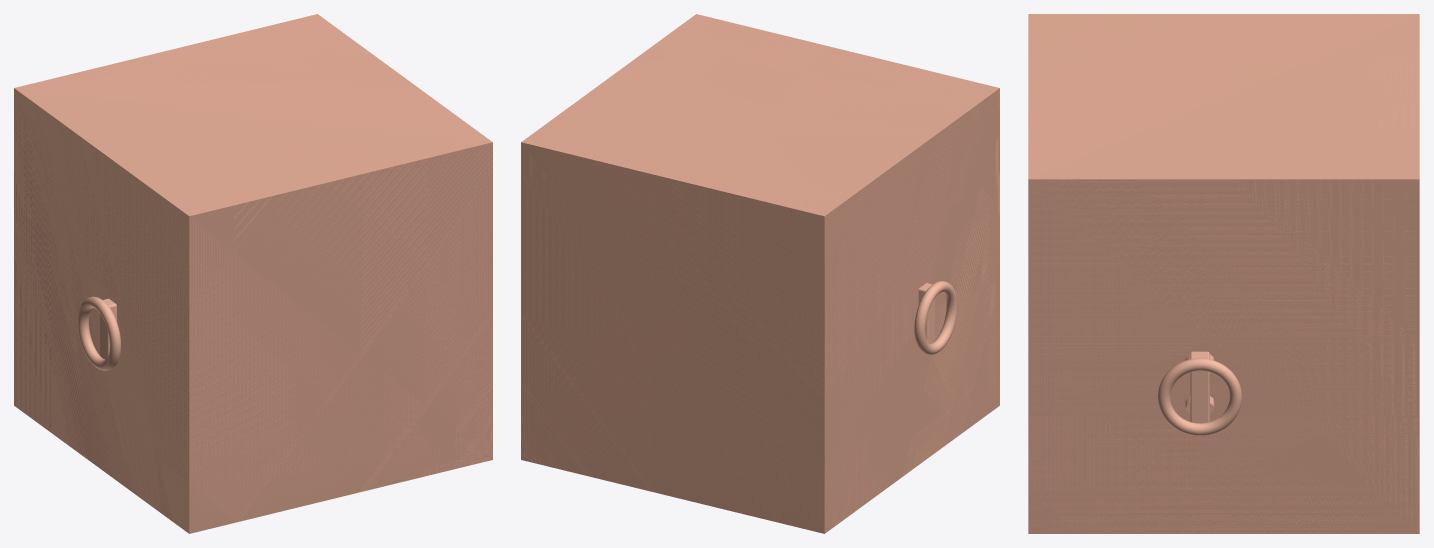
The picture shows the model from 3 angles, left to right: view 1: azimuth 30°, elevation 25°; view 2: azimuth 150°, elevation 25°; view 3: azimuth 270°, elevation 25°; orthographic projection. The views are drawn at different scales.
Parts seen in each view (by area): view 1: object 1, object 10, Pot_Handle_2; view 2: object 1, object 10, Pot_Handle_2; view 3: object 1, object 10, Pot_Handle_1, Pot_Handle_Connector_1.
Boxes of the visible parts, x1=… form: object 1: x1=14, y1=88, x2=492, y2=533; object 10: x1=14, y1=14, x2=492, y2=216; Pot_Handle_2: x1=77, y1=296, x2=120, y2=370; object 1: x1=521, y1=88, x2=999, y2=533; object 10: x1=521, y1=14, x2=999, y2=216; Pot_Handle_2: x1=914, y1=281, x2=957, y2=354; object 1: x1=1028, y1=179, x2=1419, y2=533; object 10: x1=1028, y1=14, x2=1419, y2=179; Pot_Handle_1: x1=1158, y1=358, x2=1241, y2=435; Pot_Handle_Connector_1: x1=1190, y1=351, x2=1209, y2=423.
Bounding box in the file's own units: 0.7391 × 0.5959 × 0.5959.
